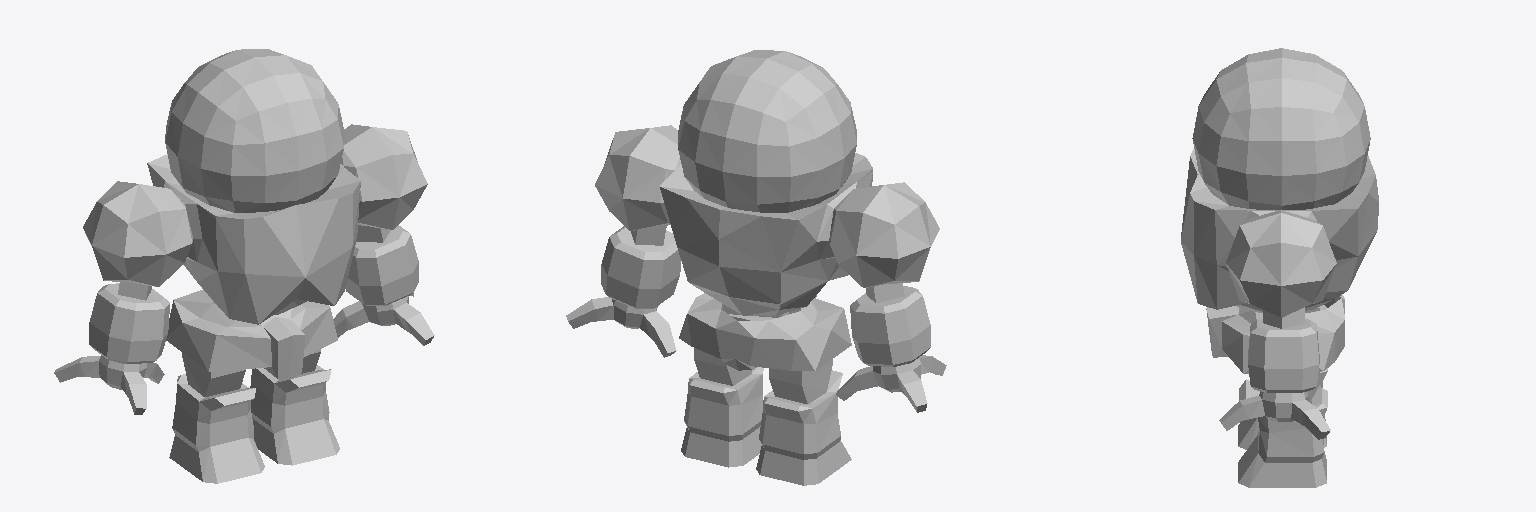
Rendered from bombot2_test.obj.
3 renders of one model, left to right at view 1: azimuth 30°, elevation 25°; view 2: azimuth 150°, elevation 25°; view 3: azimuth 270°, elevation 25°, orthographic.
Parts seen in each view (by area): view 1: top1, bottom; view 2: top1, bottom; view 3: top1, bottom.
Boxes of the visible parts, <box> form: top1: <box>54,49,434,414</box>; bottom: <box>166,290,339,483</box>; top1: <box>566,50,946,412</box>; bottom: <box>679,293,851,485</box>; top1: <box>1181,48,1378,439</box>; bottom: <box>1206,295,1344,487</box>.
Size of the model in its own units: 10.13 by 10.61 by 4.83.